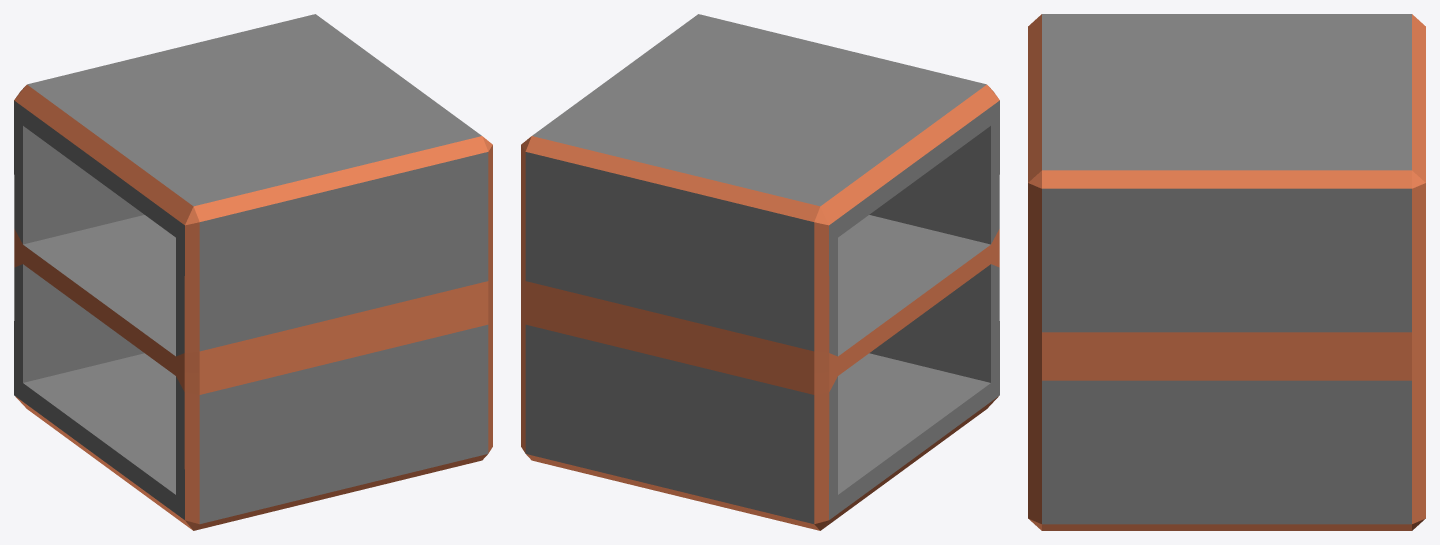
The model's file is btc miner.glb.
3 views of the same model, side by side, from view 1: azimuth 30°, elevation 25°; view 2: azimuth 150°, elevation 25°; view 3: azimuth 270°, elevation 25° (orthographic). The views are drawn at different scales.
Parts seen in each view (by area): view 1: Cube; view 2: Cube; view 3: Cube.
Part boxes in pixels (x1,y1,x2,y2): Cube: (14, 14, 492, 530); Cube: (521, 14, 999, 530); Cube: (1028, 14, 1425, 530).
Size of the model in its own units: 200 by 200 by 200.
